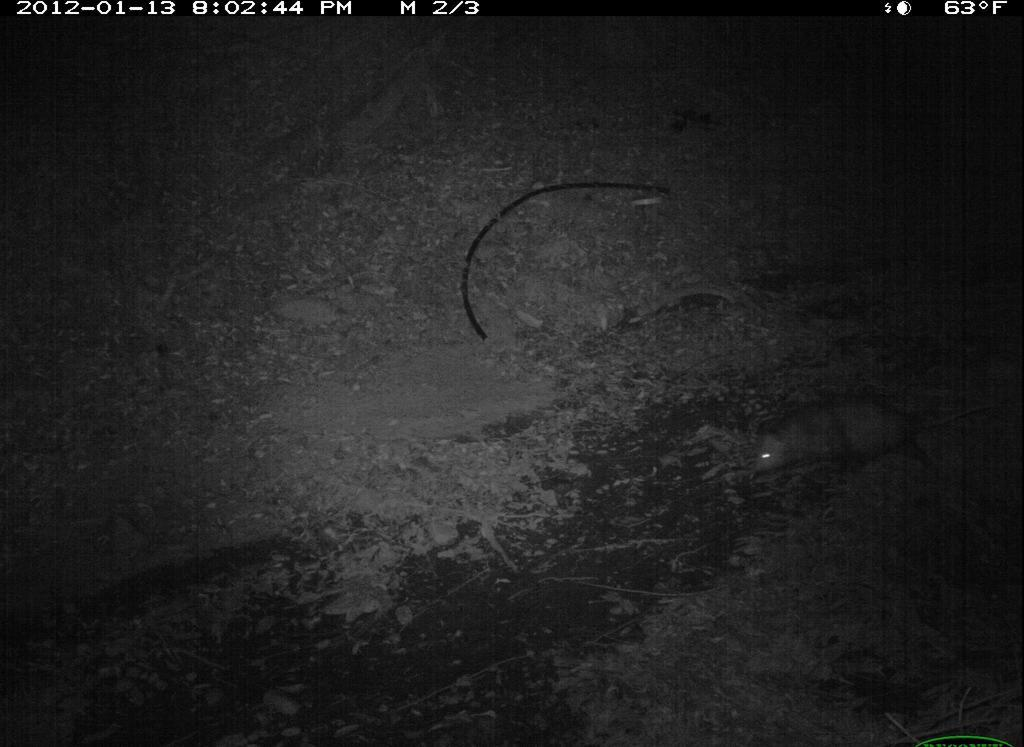opossum: (747, 387, 995, 502)
